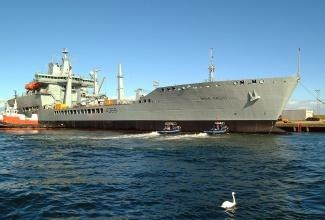otherboat: (1, 99, 42, 128), (208, 119, 230, 136), (162, 121, 181, 136)
warship: (7, 46, 303, 135)
